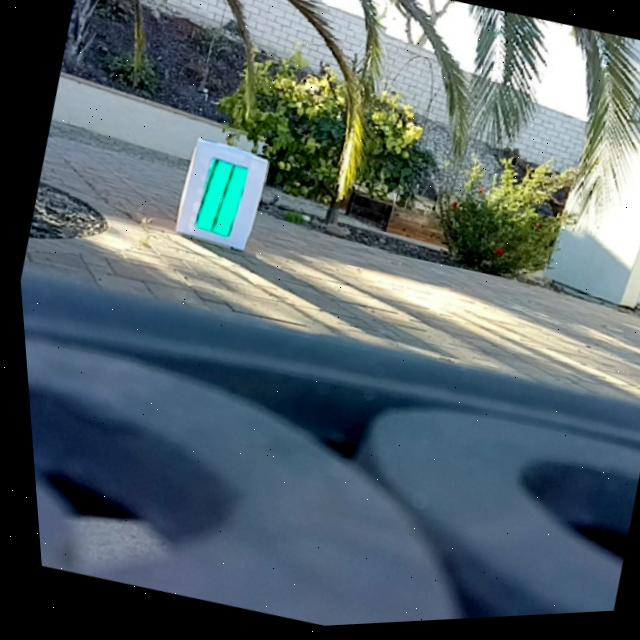led: (185, 155, 251, 244)
